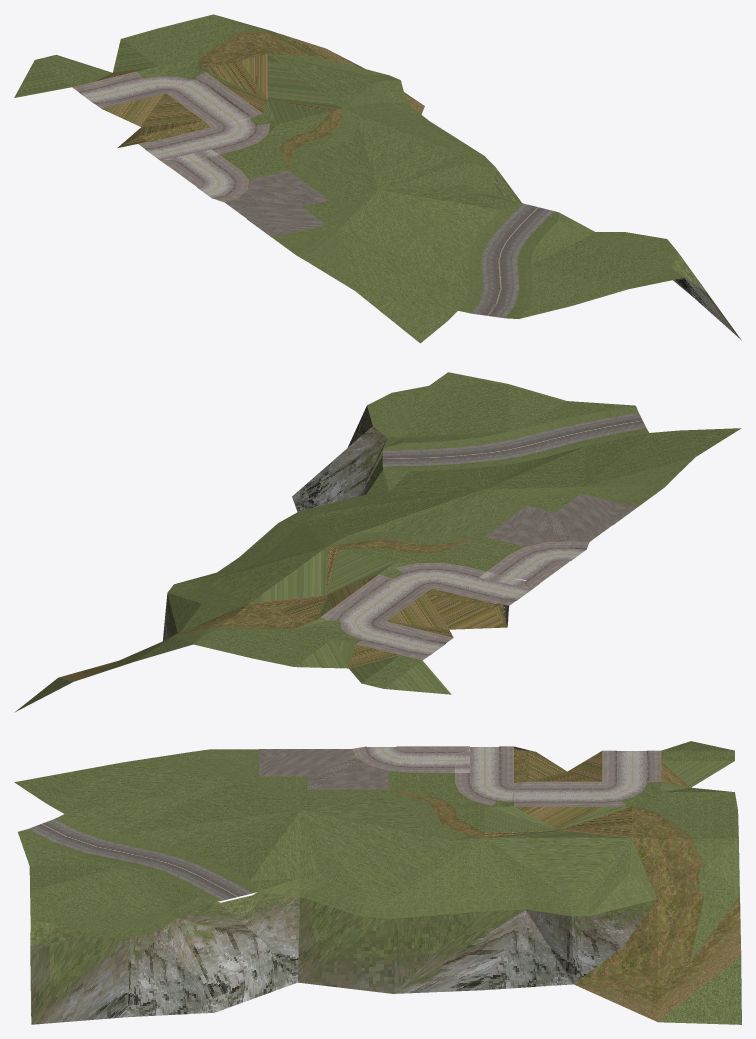
The model's file is lod_s_bit_05.obj.
3 views of the same model, one above another, from view 1: azimuth 30°, elevation 25°; view 2: azimuth 150°, elevation 25°; view 3: azimuth 270°, elevation 25° (orthographic). The views are drawn at different scales.
Visible parts, largest first — view 1: lod_s_bit_05; view 2: lod_s_bit_05; view 3: lod_s_bit_05.
Boxes of the visible parts, box(x1,y1,x2,y2) form: lod_s_bit_05: box(14, 14, 741, 343); lod_s_bit_05: box(14, 372, 741, 712); lod_s_bit_05: box(14, 741, 741, 1024).
Bounding box in the file's own units: 153 × 39.37 × 247.
15 materials, 15 textured.
